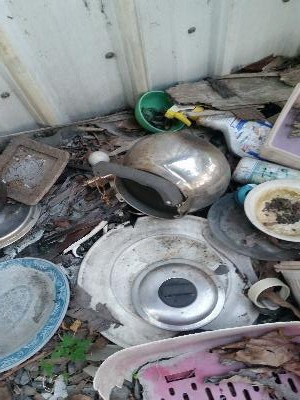bottle: (164, 104, 272, 157), (232, 156, 300, 186)
bowl: (112, 132, 232, 222), (132, 89, 189, 135)
plate: (73, 213, 261, 349), (1, 255, 73, 375), (130, 257, 226, 333), (1, 134, 70, 208), (239, 179, 300, 243)
